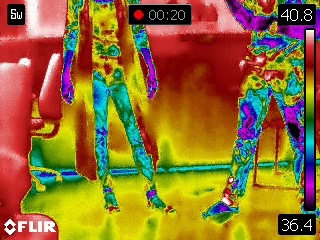human: (55, 1, 179, 216), (205, 1, 311, 222)
